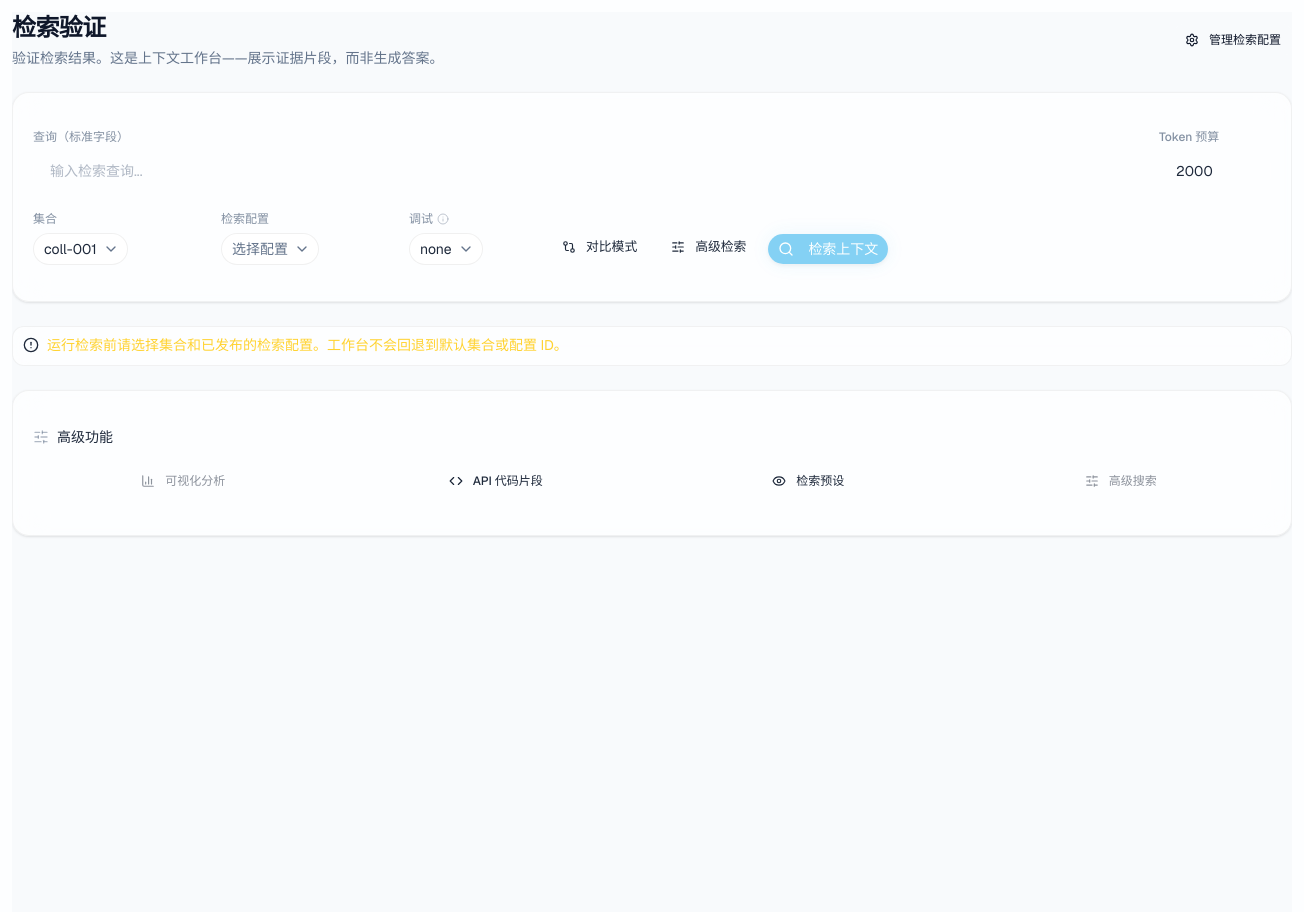
Test: RetrievalPage › Evidence Cards › renders index badge and score for each evidence
Check: the button "检索上下文" is shown, box [767,233,889,265]
Click the dropdown labelled "选择配置 ▼".
click(270, 249)  # box [221,233,319,265]
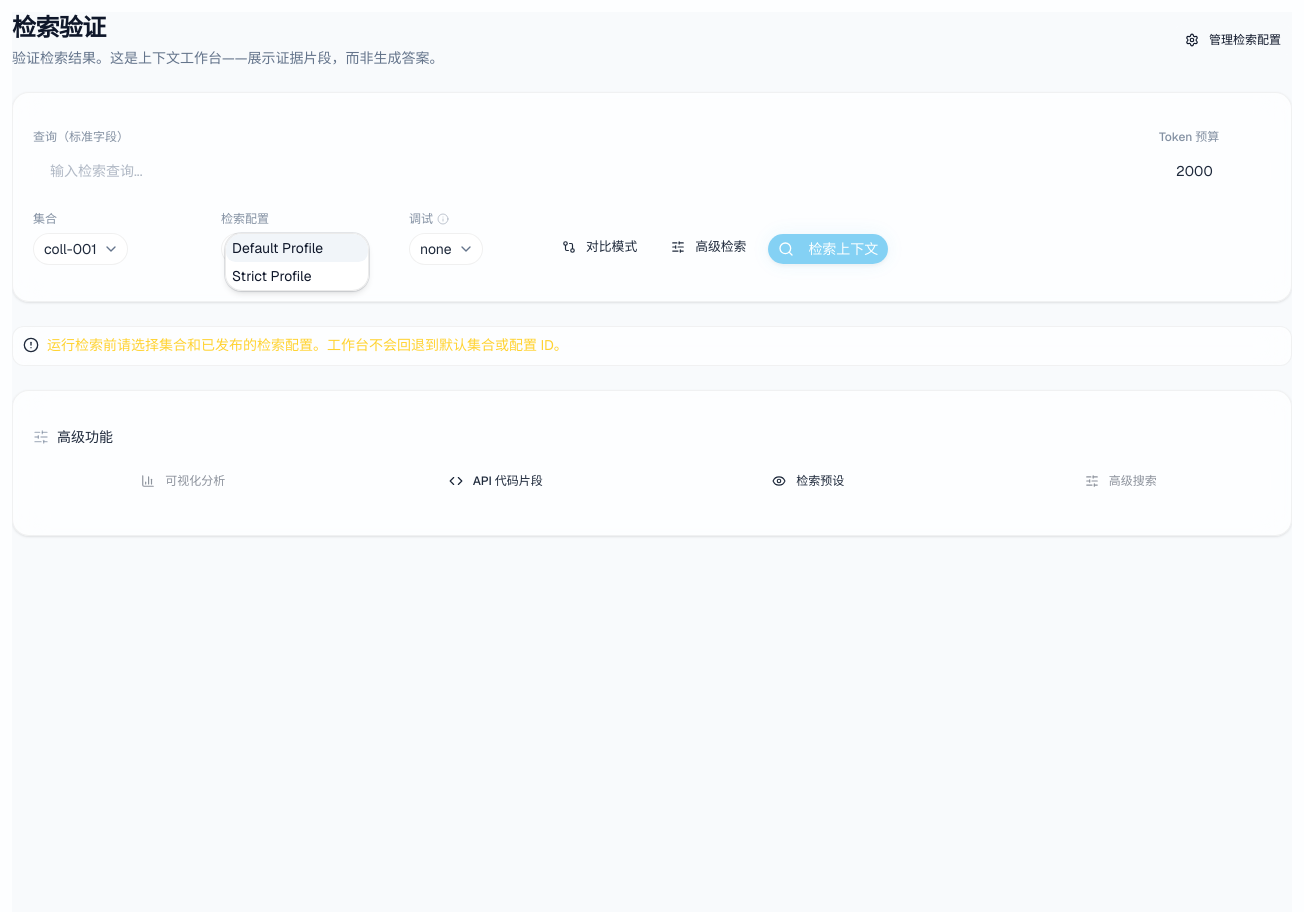
Check: the option "Default Profile" is shown
Click the option "Default Profile".
click(297, 248)  # box [226,234,368,262]
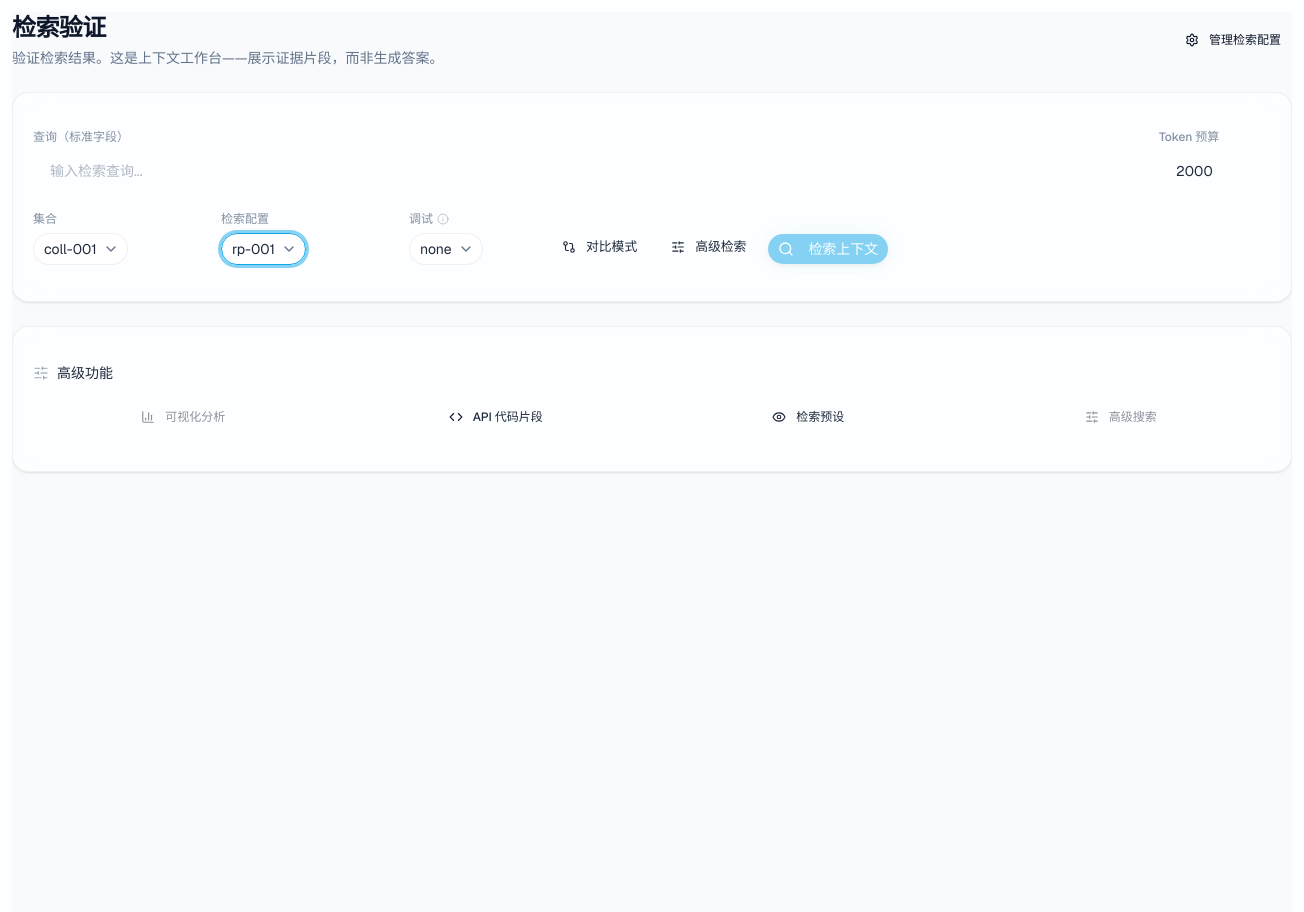
Type "test query" into the field with placeholder "输入检索查询...".
click(590, 171); type("test query")  # box [33,151,1147,191]
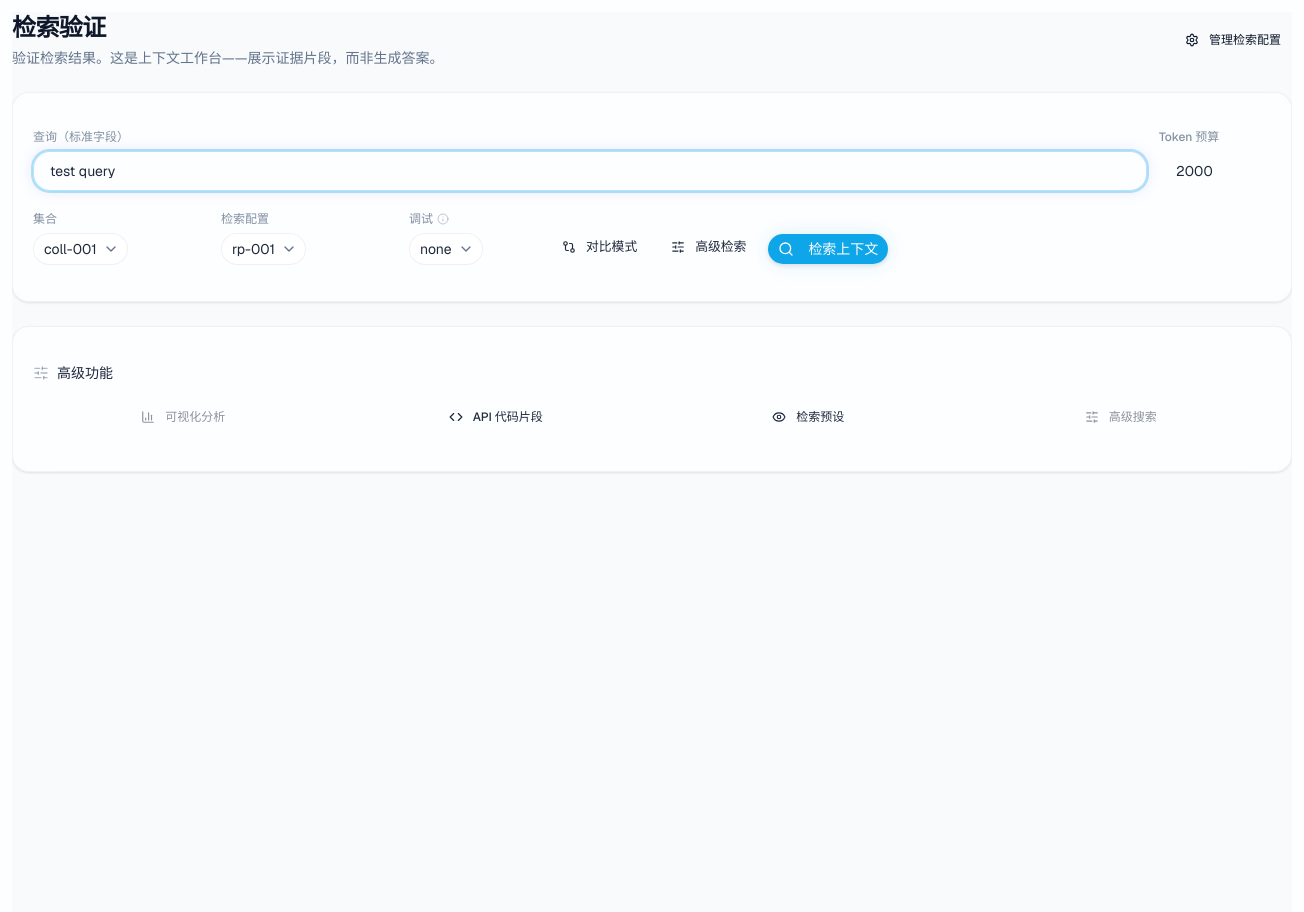
Click the button "检索上下文".
click(828, 249)  # box [767,233,889,265]
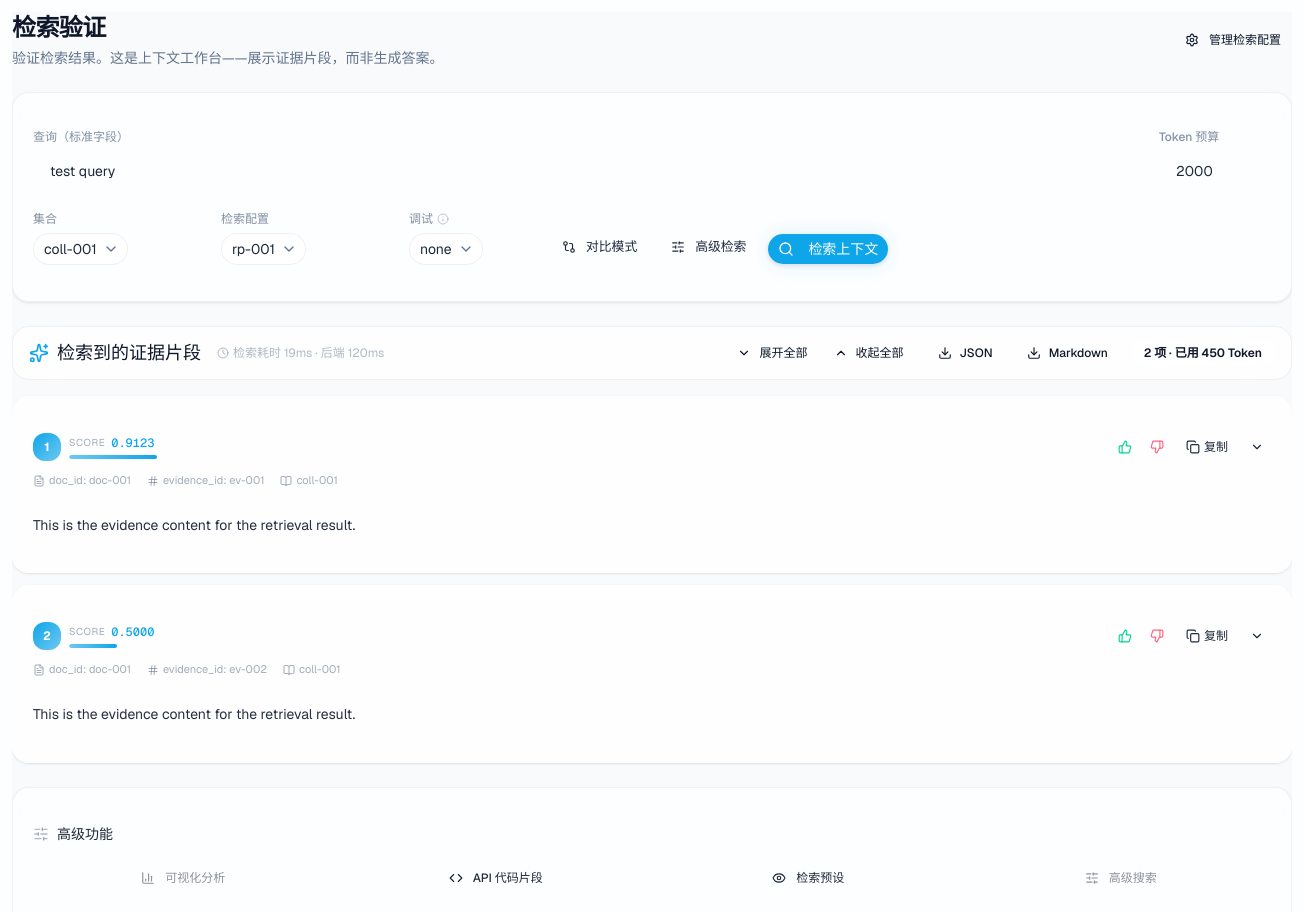
Check: the heading "检索到的证据片段 检索耗时 19ms · 后端 120ms" is shown, box [29,339,384,367]
Check: the text "1" is shown, box [33,433,61,461]
Check: the text "0.9123" is shown, box [111,435,154,451]
